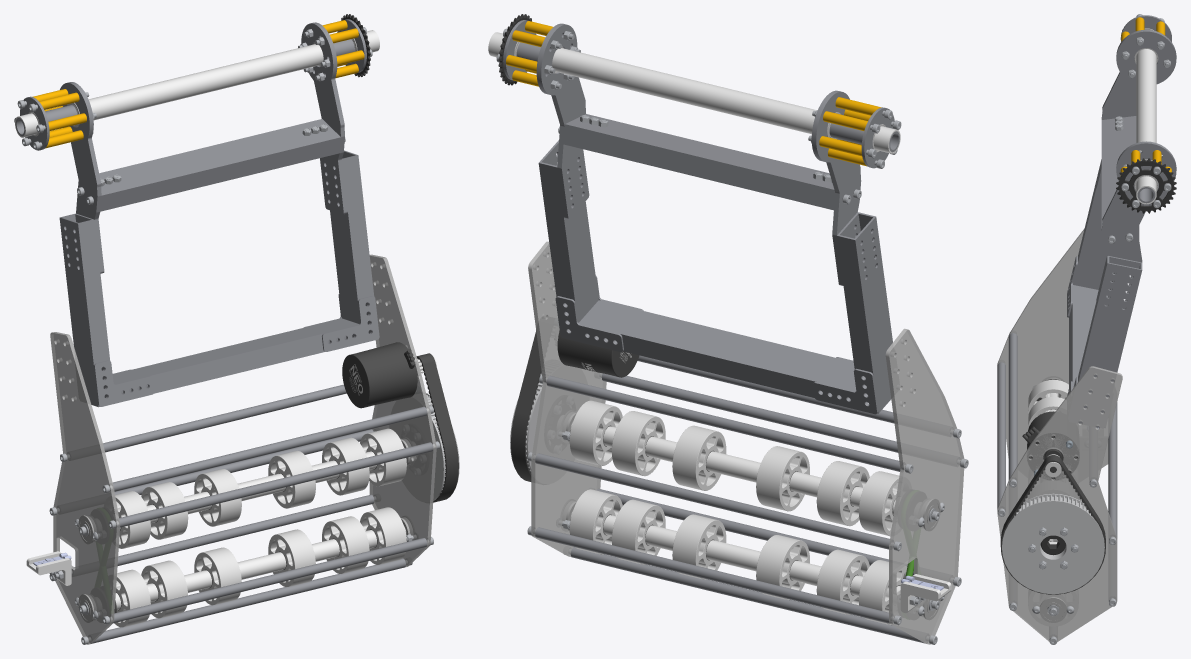
The picture shows the model from 3 angles, left to right: view 1: azimuth 30°, elevation 25°; view 2: azimuth 150°, elevation 25°; view 3: azimuth 270°, elevation 25°; orthographic projection. The views are drawn at different scales.
Visible parts, largest first — view 1: Part 3 (×7), am-3949 2.25N OverMolded 500Hex Compliant Wheel V6 (×12), Part 2, Part 12 (×2), Part 30, Part 1 (×2), Part 16 (×2), Part 33, Part 26, NEO Brushless Motor (REV-21-1650), Part 34 (×2), 85T HTD5 Belt (+4 smaller); view 2: am-3949 2.25N OverMolded 500Hex Compliant Wheel V6 (×12), Part 3 (×7), Part 2, Part 12 (×2), Part 33, Part 1 (×2), Part 30, Part 16 (×2), Part 26, Part 34 (×2), Part 7 (×2), 85T HTD5 Belt (+4 smaller); view 3: Part 1, 72T HTD Pulley 16mm Wide, Part 2, Part 12 (×2), Part 16 (×2), Part 3 (×3), Part 30, Part 26, NEO Brushless Motor (REV-21-1650), Part 33, 32t Plate 25 Chain Sprocket (217-2690), 85T HTD5 Belt (+6 smaller).
Part boxes in pixels (left/top/right/bottom): Part 3 (×7): left=58, top=384, right=433, bottom=643; am-3949 2.25N OverMolded 500Hex Compliant Wheel V6 (×12): left=114, top=428, right=406, bottom=627; Part 2: left=50, top=332, right=120, bottom=644; Part 12 (×2): left=59, top=150, right=374, bottom=407; Part 30: left=99, top=119, right=340, bottom=211; Part 1 (×2): left=26, top=254, right=436, bottom=585; Part 16 (×2): left=60, top=22, right=347, bottom=273; Part 33: left=112, top=318, right=359, bottom=394; Part 26: left=88, top=44, right=323, bottom=120; NEO Brushless Motor (REV-21-1650): left=342, top=342, right=417, bottom=408; Part 34 (×2): left=94, top=296, right=379, bottom=406; 85T HTD5 Belt: left=416, top=353, right=458, bottom=502; am-3949 2.25N OverMolded 500Hex Compliant Wheel V6 (×12): left=569, top=400, right=907, bottom=625; Part 3 (×7): left=535, top=355, right=960, bottom=643; Part 2: left=885, top=328, right=964, bottom=644; Part 12 (×2): left=538, top=140, right=892, bottom=413; Part 33: left=579, top=300, right=856, bottom=400; Part 1 (×2): left=528, top=241, right=951, bottom=613; Part 30: left=563, top=114, right=834, bottom=210; Part 16 (×2): left=536, top=23, right=861, bottom=285; Part 26: left=552, top=48, right=816, bottom=134; Part 34 (×2): left=555, top=296, right=878, bottom=414; Part 7 (×2): left=706, top=451, right=760, bottom=571; 85T HTD5 Belt: left=511, top=330, right=541, bottom=481; Part 1: left=997, top=366, right=1122, bottom=642; 72T HTD Pulley 16mm Wide: left=1002, top=493, right=1104, bottom=594; Part 2: left=997, top=228, right=1108, bottom=468; Part 12 (×2): left=1073, top=159, right=1142, bottom=427; Part 16 (×2): left=1096, top=29, right=1176, bottom=301; Part 3 (×3): left=997, top=333, right=1117, bottom=539; Part 30: left=1101, top=116, right=1139, bottom=239; Part 26: left=1136, top=49, right=1156, bottom=152; NEO Brushless Motor (REV-21-1650): left=1022, top=411, right=1079, bottom=479; Part 33: left=1069, top=285, right=1107, bottom=388; 32t Plate 25 Chain Sprocket (217-2690): left=1116, top=158, right=1176, bottom=213; 85T HTD5 Belt: left=1000, top=455, right=1105, bottom=594.
Size of the model in its own units: 0.469 by 0.599 by 0.2013.
